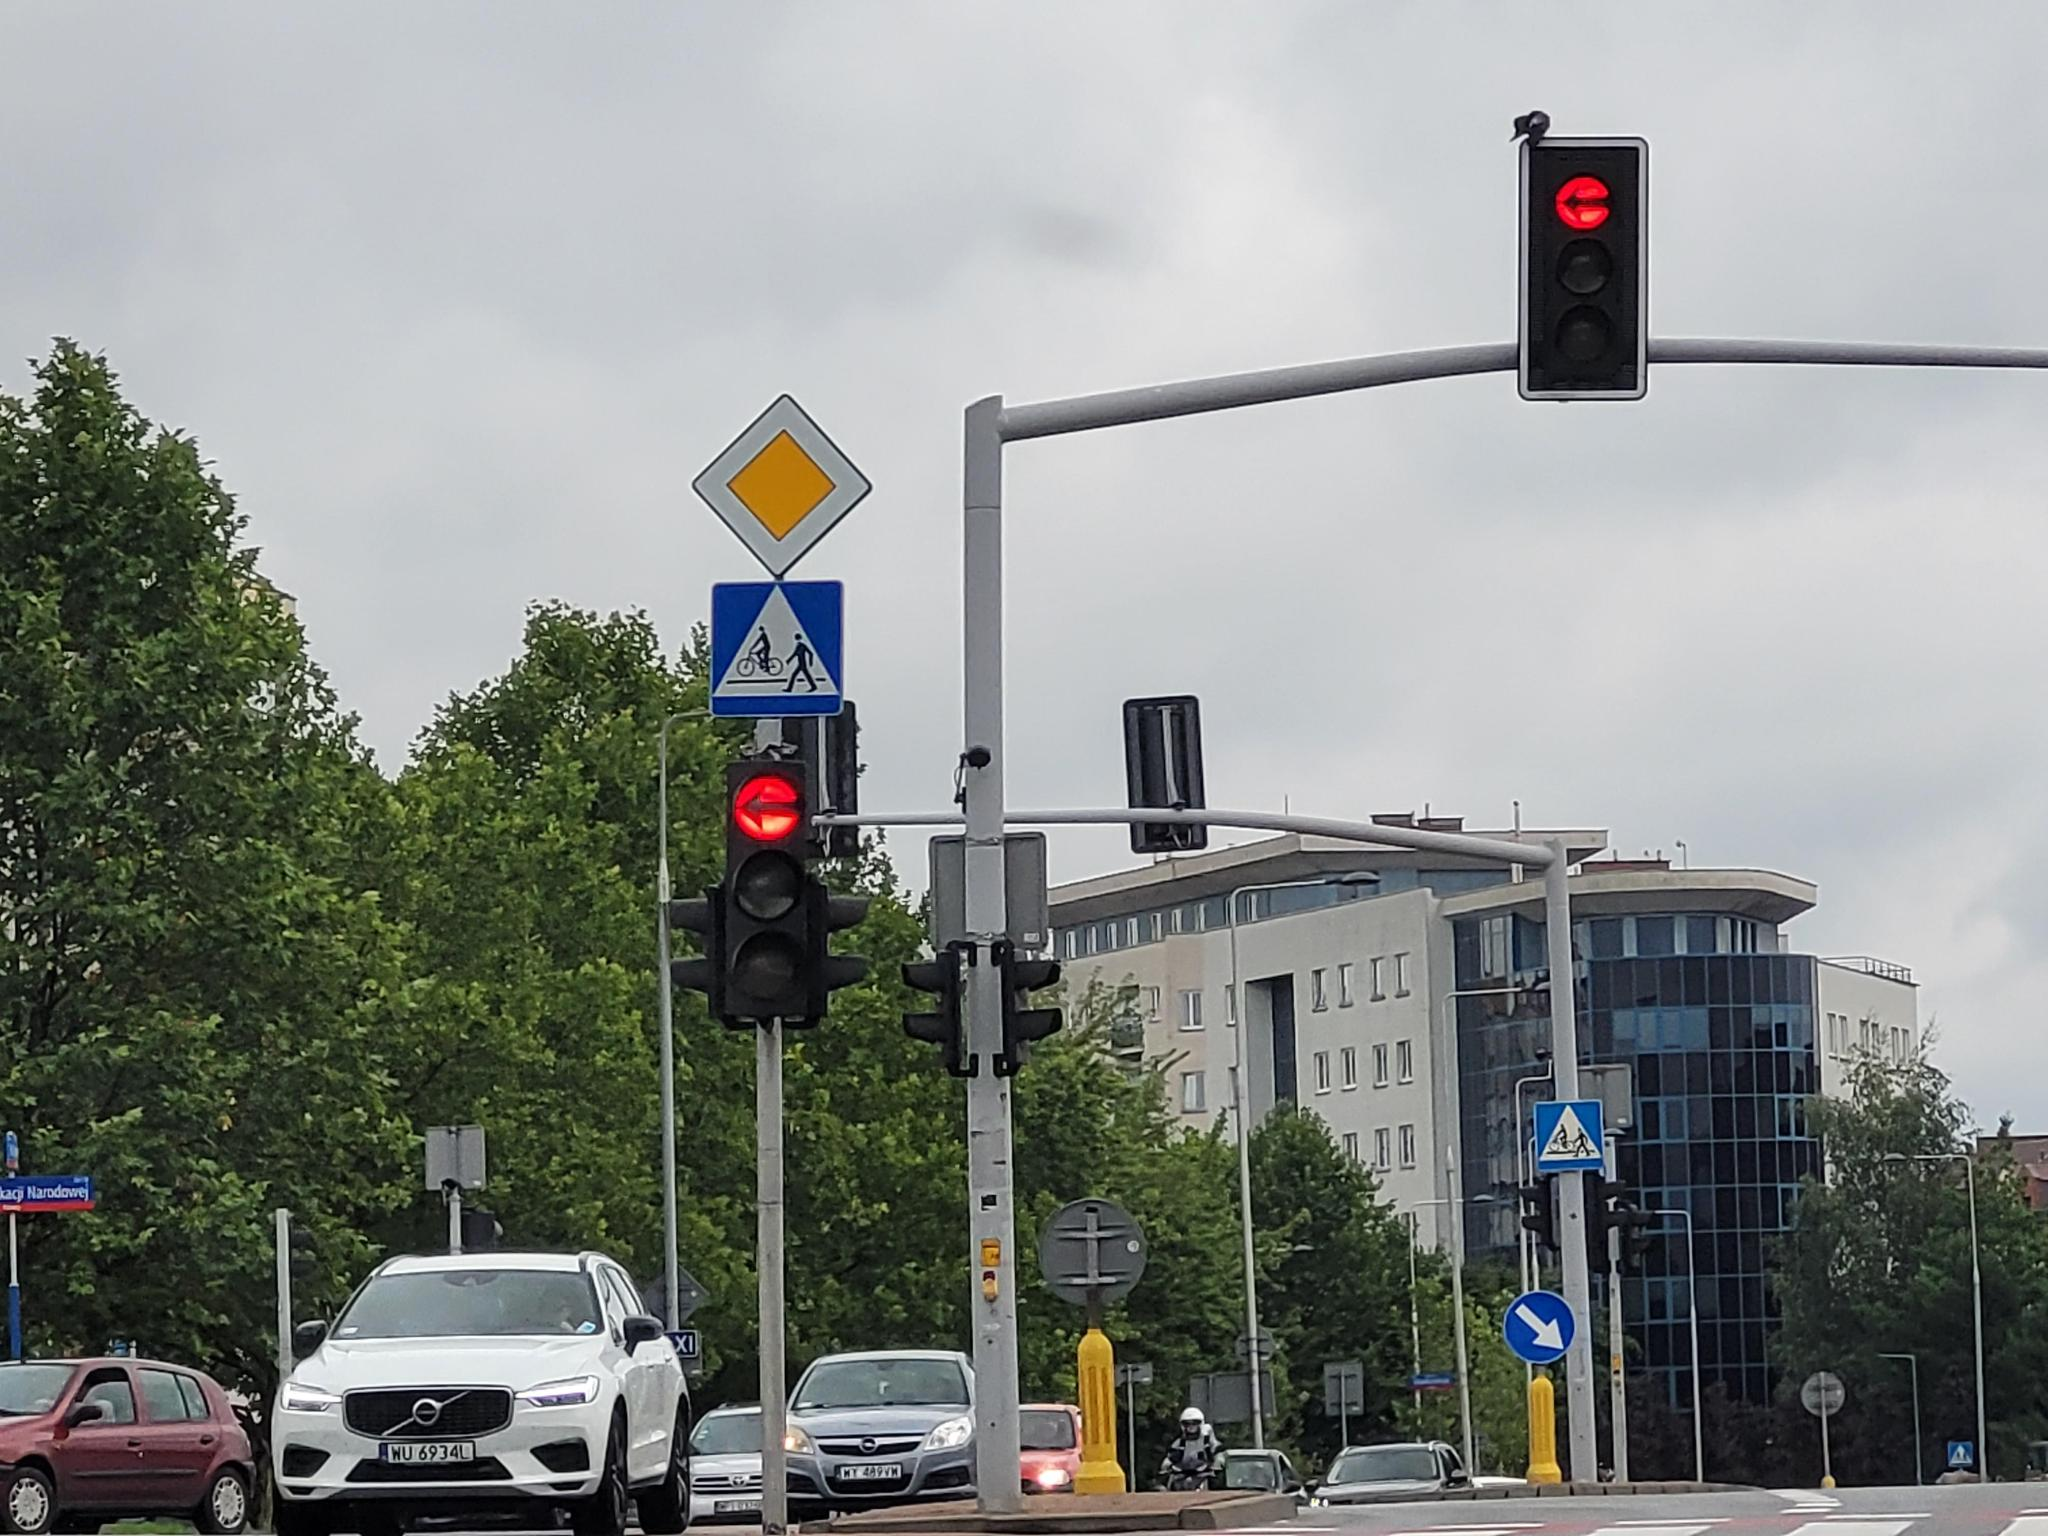information: (692, 392, 876, 579), (711, 579, 845, 718), (1534, 1100, 1606, 1170), (1948, 1442, 1974, 1467)
mandatory: (1503, 1289, 1576, 1367)
